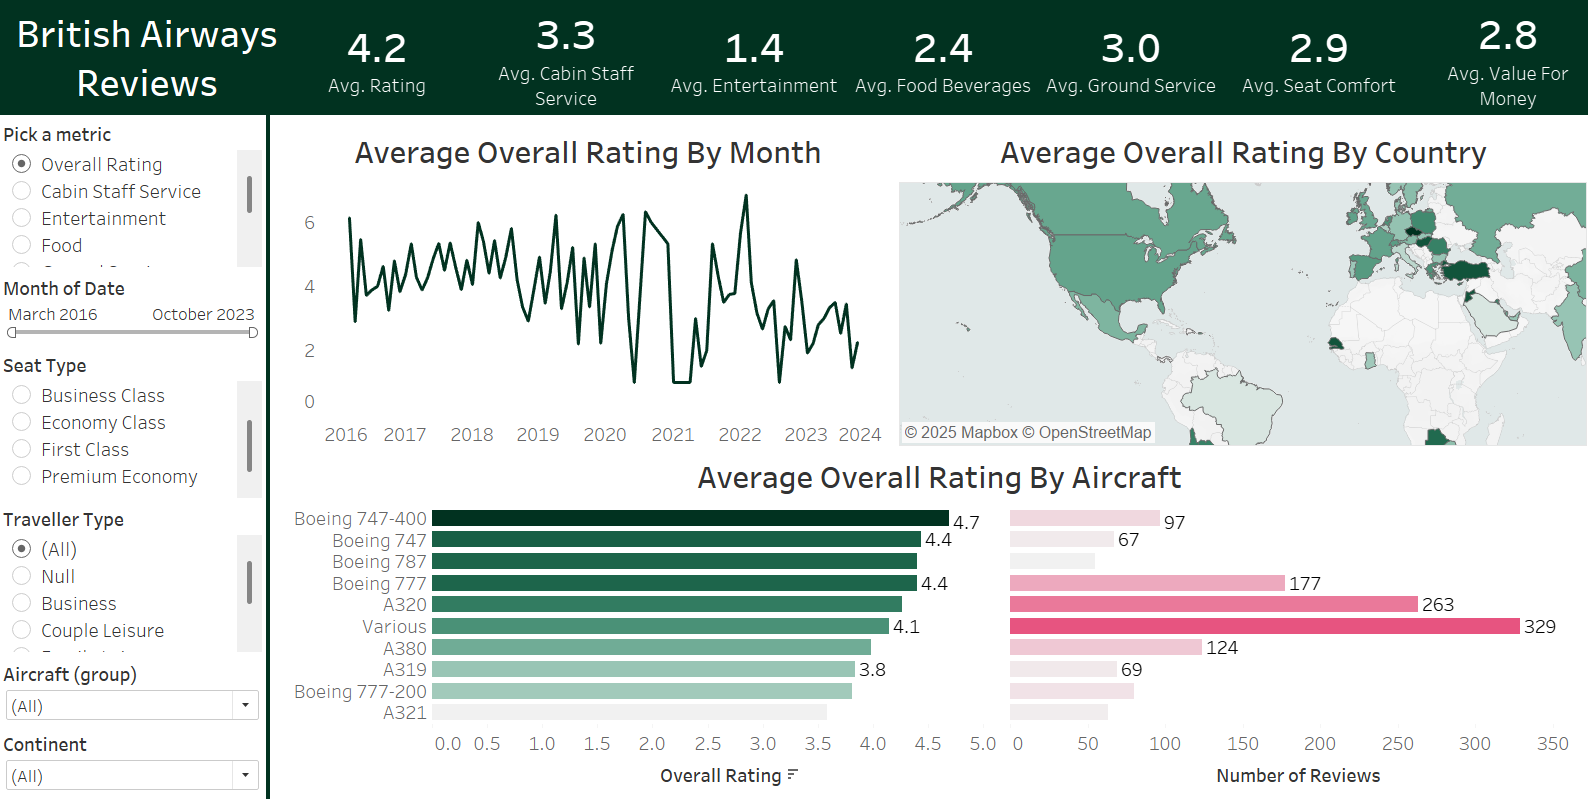

This screenshot's page, from the dashboard's own definition file:
{"tool":"tableau","page":{"name":"Dashboard 1","canvas":[1600,800],"ordinal":0},"visuals":[{"type":"text","box":[0,0,296,114.7]},{"type":"worksheet","title":"summary","mark":"Automatic","box":[284,0,1319,115]},{"type":"blank","box":[266.7,114.3,4,685.7]},{"type":"parameter","param":"[Parameters].[Parameter 1]","box":[0,116.6,266.7,154.3]},{"type":"worksheet","title":"Month","mark":"Automatic","rows":["Calculation_467529988195790848"],"cols":["date"],"box":[293.3,125.7,592,320]},{"type":"worksheet","title":"Map","mark":"Automatic","box":[900,125.7,689.3,320]},{"type":"filter","title":"Map","param":"[federated.1pcnwoo1g4pvph10ksfk00hadk1e].[tmn:date:qk]","box":[0,270.9,266.7,77]},{"type":"filter","title":"Map","param":"[federated.1pcnwoo1g4pvph10ksfk00hadk1e].[none:seat_type:nk]","box":[0,347.9,266.7,154.3]},{"type":"worksheet","title":"Aircraft","mark":"Automatic","cols":["Calculation_467529988195790848","ba_reviews.csv_693B5AD7C0CC43C9AB5E245D8FB67E5F"],"box":[293.3,451.4,1294.7,342.9]},{"type":"filter","title":"Map","param":"[federated.1pcnwoo1g4pvph10ksfk00hadk1e].[none:traveller_type:nk]","box":[0,502.2,266.7,154.3]},{"type":"filter","title":"Map","param":"[federated.1pcnwoo1g4pvph10ksfk00hadk1e].[Aircraft (group)]","box":[0,656.6,266.7,70]},{"type":"filter","title":"Map","param":"[federated.1pcnwoo1g4pvph10ksfk00hadk1e].[none:Continent:nk]","box":[0,726.6,266.7,70]}]}

Visuals, with their boxes in screenshot pixels (x1, y1, x2, y2), scaled from the page's 1600x800 canvas onto the 1588x802 screenshot:
text: 0 0 294 115
"summary" worksheet: 282 0 1587 115
blank: 265 115 269 801
parameter: 0 117 265 272
"Month" worksheet: 291 126 879 447
"Map" worksheet: 893 126 1577 447
"Map" filter: 0 272 265 349
"Map" filter: 0 349 265 503
"Aircraft" worksheet: 291 453 1576 796
"Map" filter: 0 503 265 658
"Map" filter: 0 658 265 728
"Map" filter: 0 728 265 799
